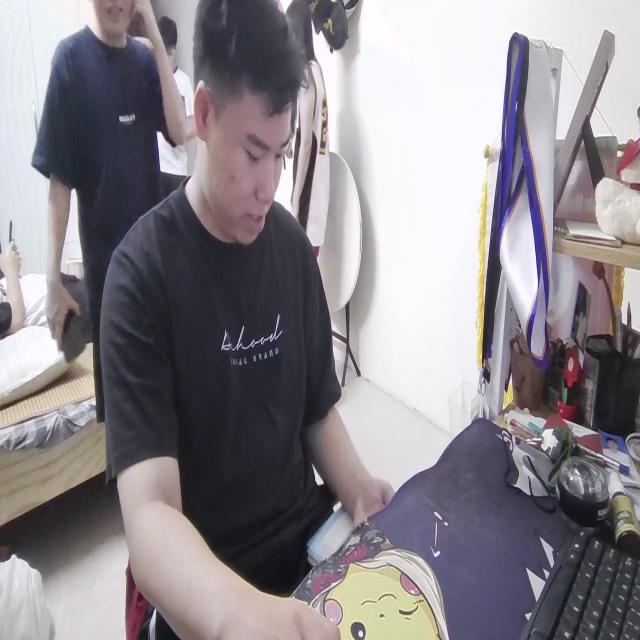book: (306, 508, 359, 560)
extra_person: (36, 0, 184, 417), (286, 0, 335, 262)
student: (99, 0, 402, 640)
